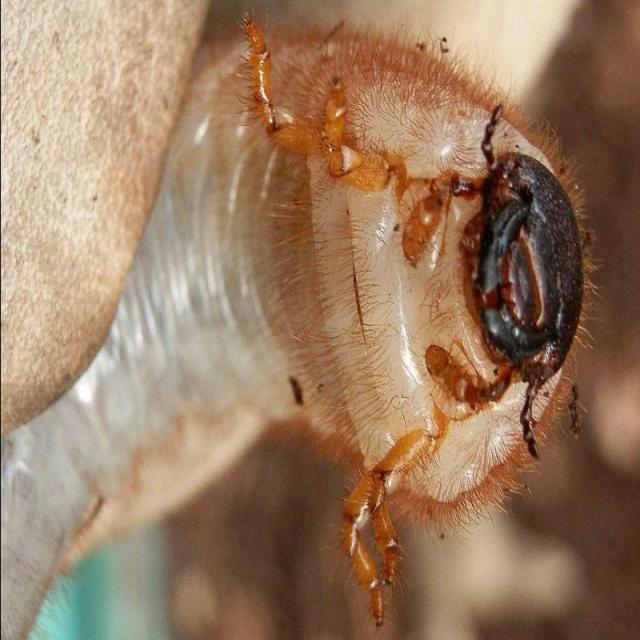grub: (1, 39, 587, 640)
